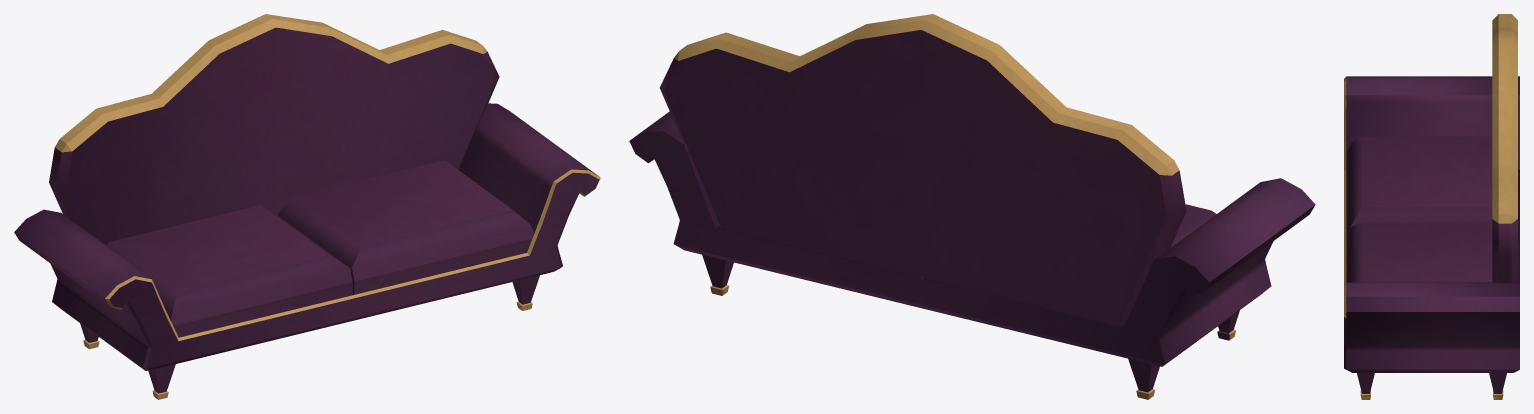
Rendered from SM_noble_couch.fbx.
3 renders of one model, left to right at view 1: azimuth 30°, elevation 25°; view 2: azimuth 150°, elevation 25°; view 3: azimuth 270°, elevation 25°, orthographic. The views are drawn at different scales.
Visible parts, largest first — view 1: SM_noble_couch; view 2: SM_noble_couch; view 3: SM_noble_couch.
Part boxes in pixels (bbox=[...]): SM_noble_couch: bbox=[14, 14, 600, 399]; SM_noble_couch: bbox=[629, 14, 1315, 399]; SM_noble_couch: bbox=[1344, 14, 1519, 399].
Bounding box in the file's own units: 2.94 × 1.6 × 0.9458.
